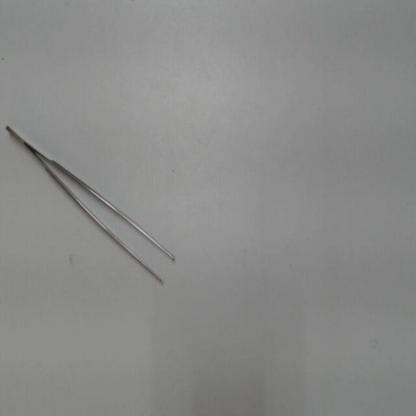Gillies Toothed Dissector: (4, 112, 188, 294)
